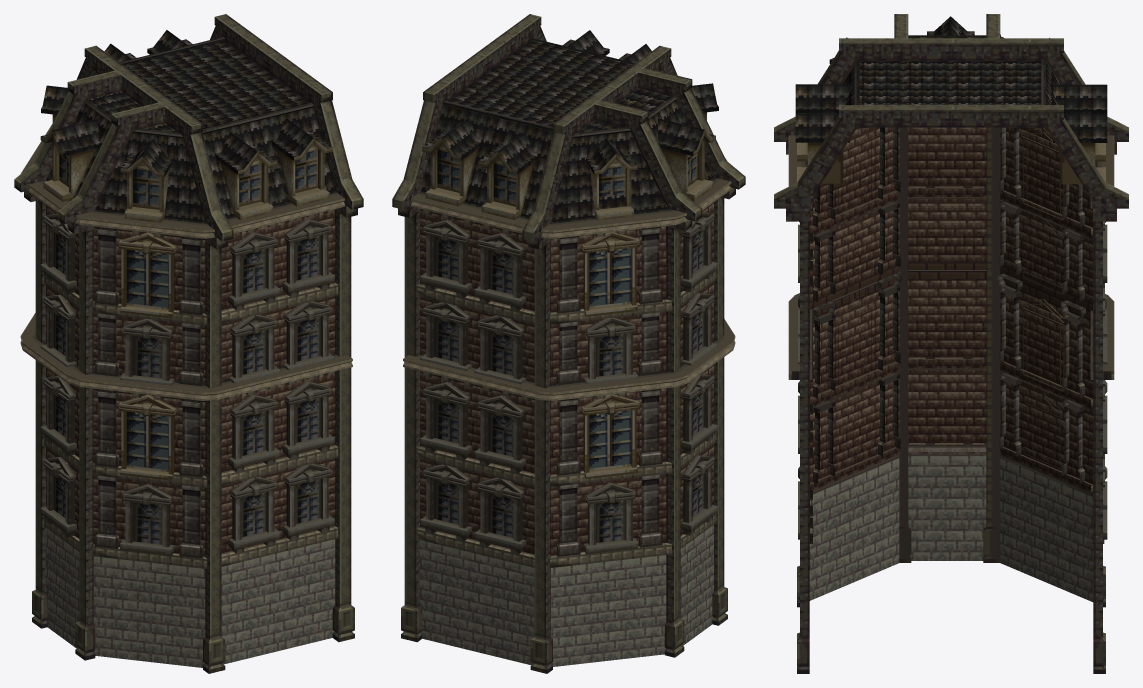
The model's file is EnvBdgMD_City_B_Outdoor_L_G_Redwall_A.FBX.
3 renders of one model, left to right at view 1: azimuth 30°, elevation 25°; view 2: azimuth 150°, elevation 25°; view 3: azimuth 270°, elevation 25°, orthographic. The views are drawn at different scales.
Parts seen in each view (by area): view 1: EnvBdgMD_City_B_Outdoor_L_G_Redwall_A; view 2: EnvBdgMD_City_B_Outdoor_L_G_Redwall_A; view 3: EnvBdgMD_City_B_Outdoor_L_G_Redwall_A.
Part boxes in pixels (left/top/right/bottom): EnvBdgMD_City_B_Outdoor_L_G_Redwall_A: left=14, top=14, right=363, bottom=673; EnvBdgMD_City_B_Outdoor_L_G_Redwall_A: left=392, top=14, right=745, bottom=673; EnvBdgMD_City_B_Outdoor_L_G_Redwall_A: left=774, top=14, right=1128, bottom=673.
Size of the model in its own units: 631 by 1313 by 751.
Materials: 1 (1 with a texture image).
